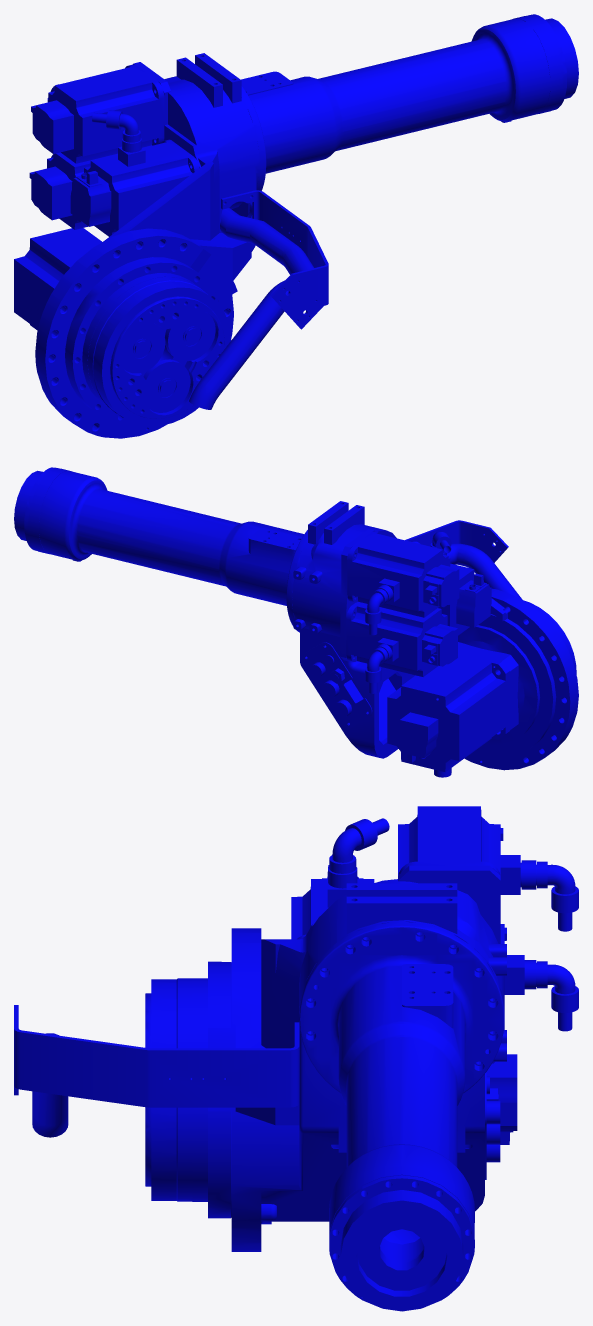
Rendered from es165d_U_AXIS.dae.
3 views of the same model, one above another, from view 1: azimuth 30°, elevation 25°; view 2: azimuth 150°, elevation 25°; view 3: azimuth 270°, elevation 25° (orthographic). The views are drawn at different scales.
Parts seen in each view (by area): view 1: node; view 2: node; view 3: node.
Part boxes in pixels (<box>): node: <box>14,14,578,438</box>; node: <box>14,467,578,777</box>; node: <box>14,806,578,1311</box>.
Size of the model in its own units: 1.24 by 0.7149 by 0.608.
